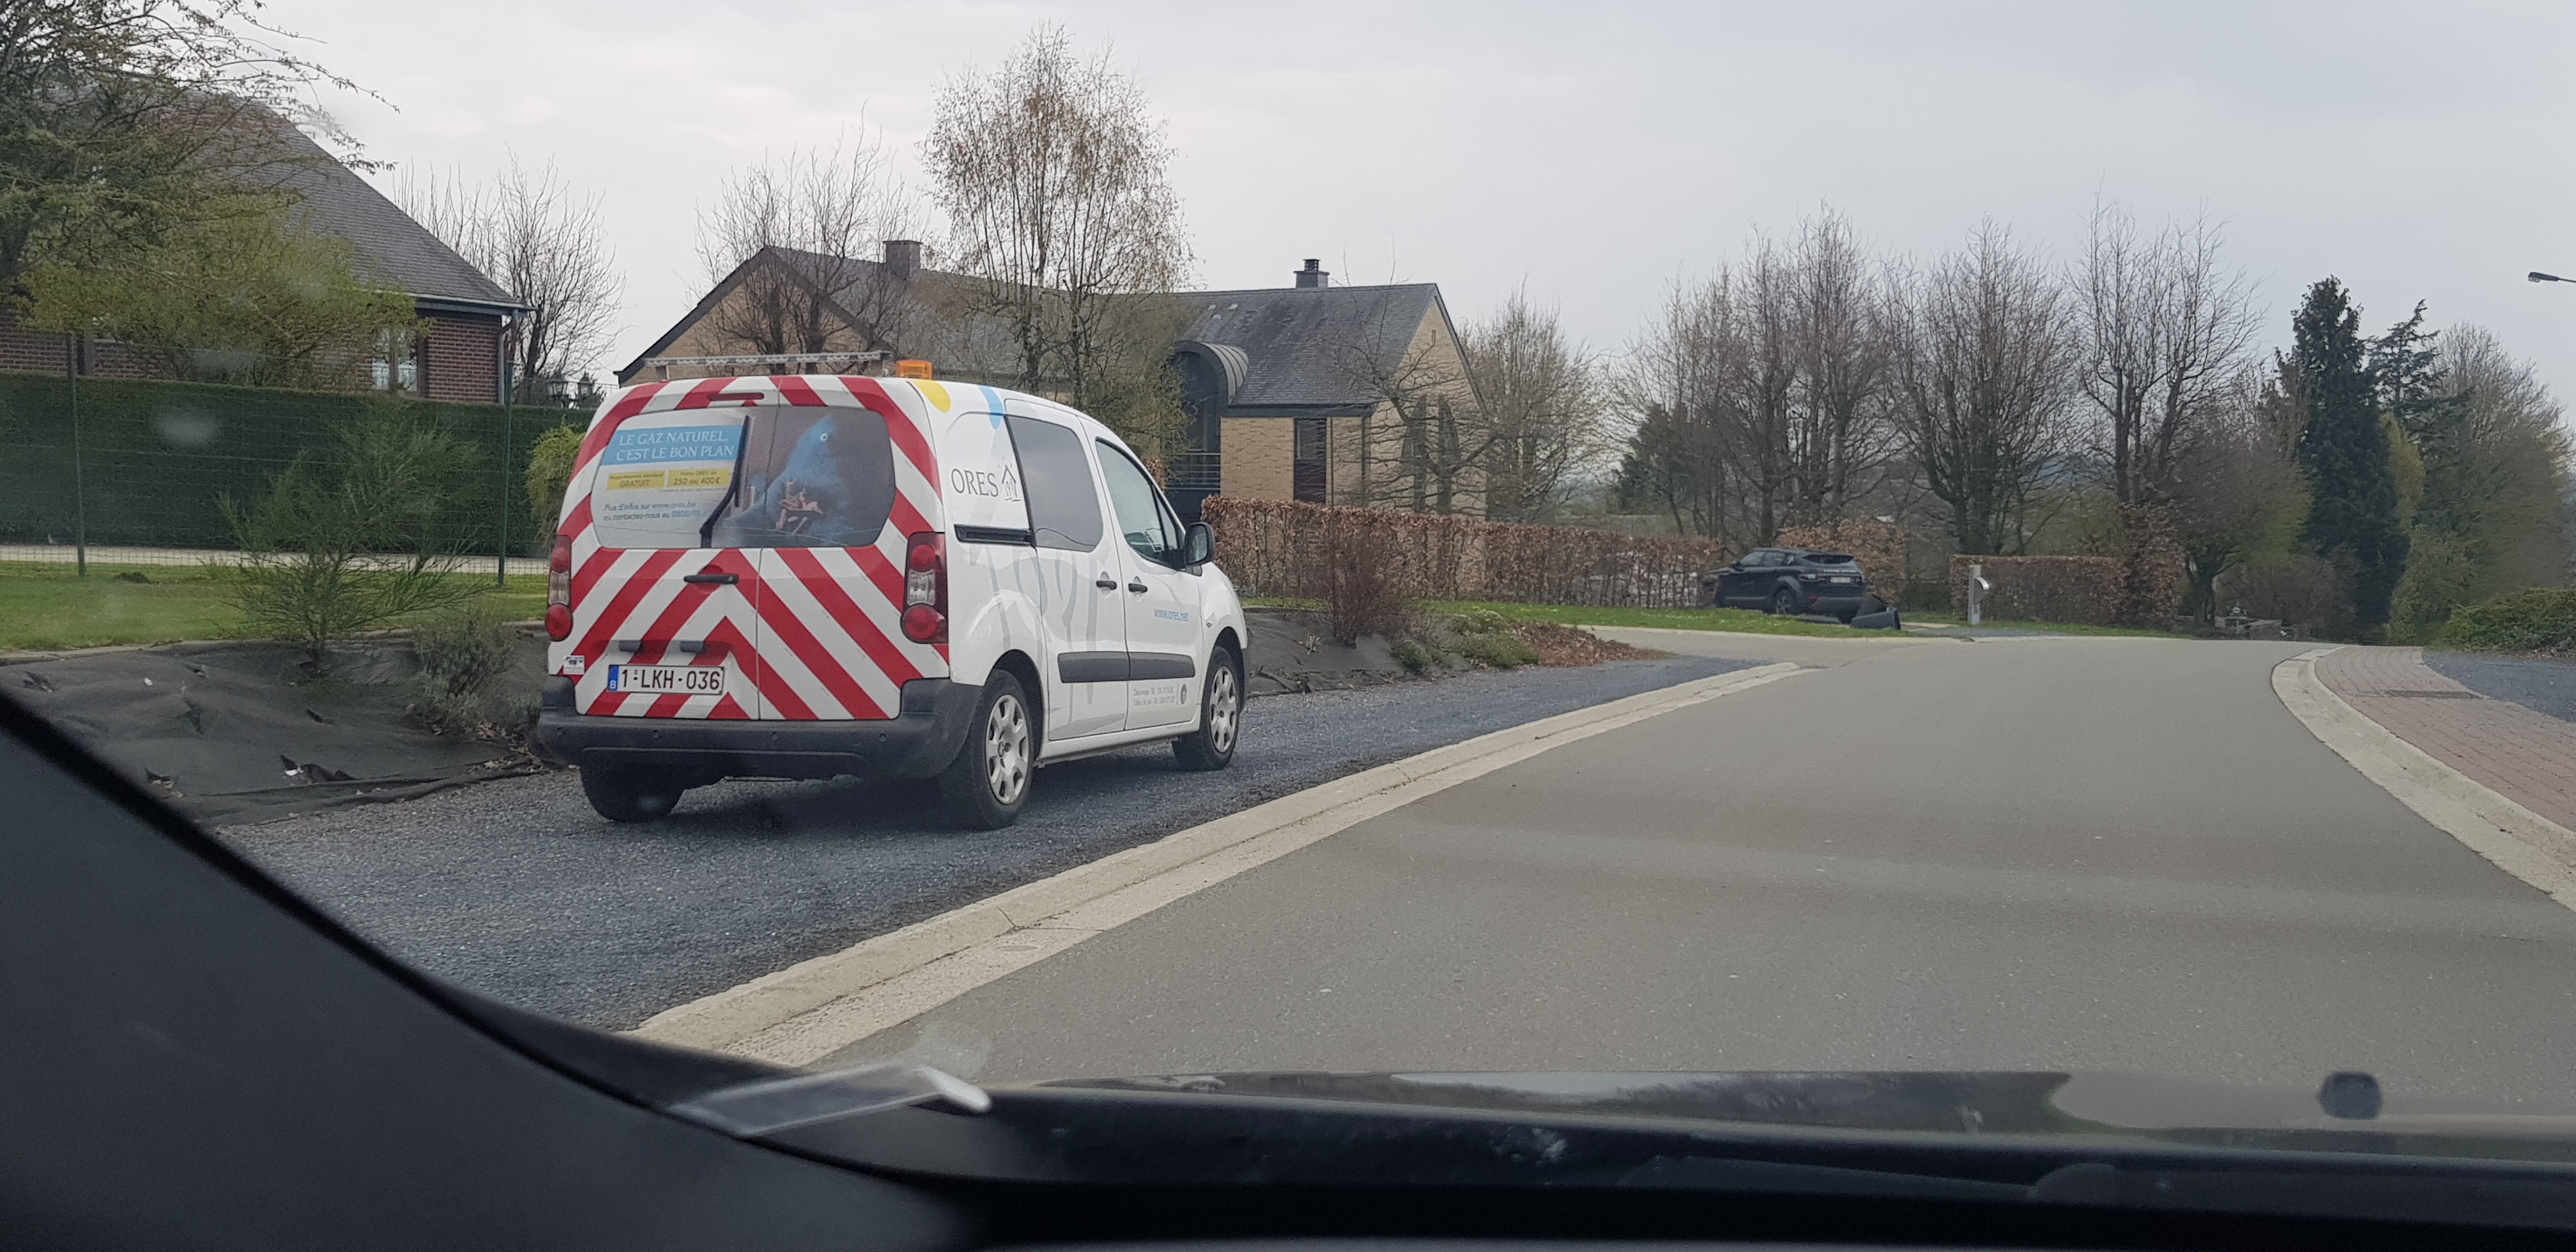licenceplate: (605, 662, 726, 697)
